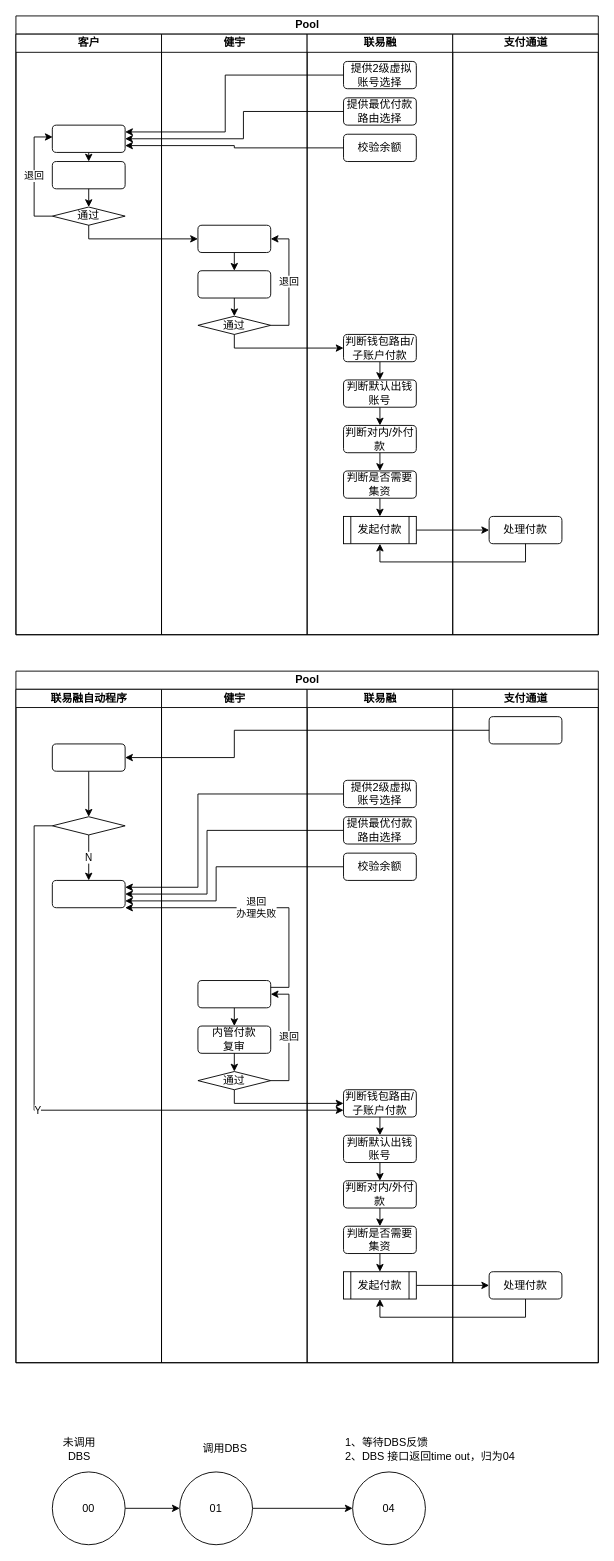
Some shapes in this 614 by 1561 pixel diagram are drawn without their labels. Each missing label, with the centre of its shape:
"内管付款初审" belongs at (234,994).
"内管初审" belongs at (234,238).
"内管复审" belongs at (234,284).
"初审提交付款" belongs at (88,138).
"复审审核" belongs at (88,175).
"扣款清单" belongs at (525,730).
"提交付款办理" belongs at (88,894).
"校验通过" belongs at (88,825).
"根据规则识别需要纳入到自动扣费" belongs at (88,757).
